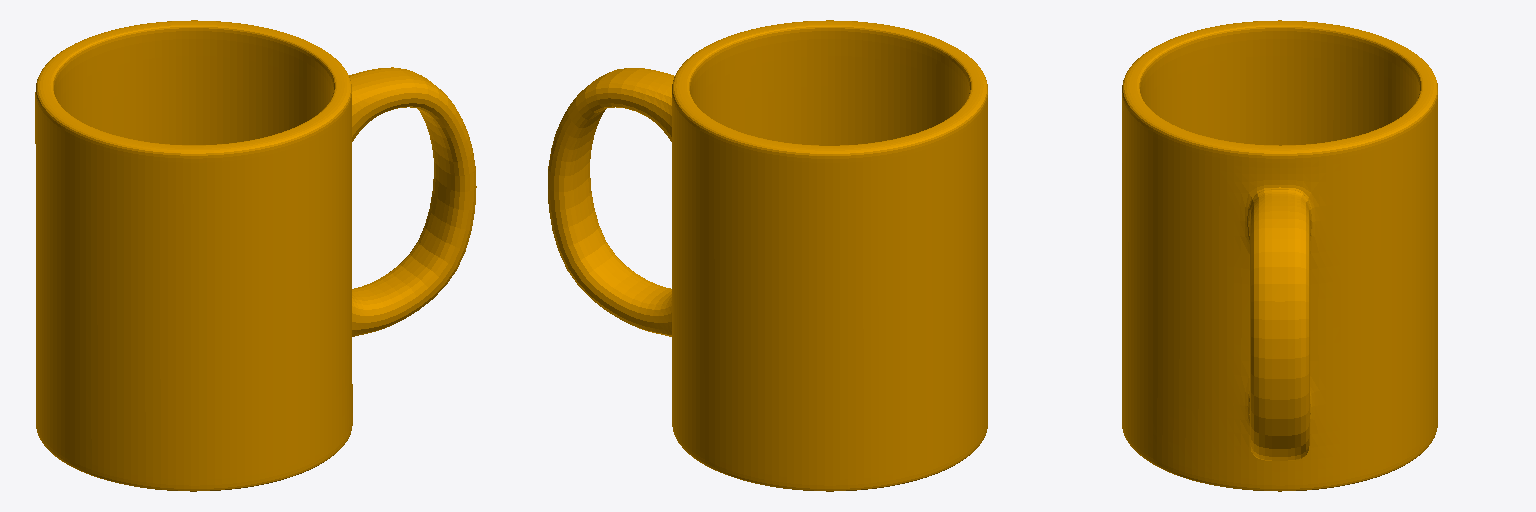
robot.urdf — apple:
<?xml version="0.0" ?>
<robot name="apple">
  <link name="baseLink">
    <contact>
      <lateral_friction value="1.0"/>
      <rolling_friction value="0.0"/>
      <contact_cfm value="0.0"/>
      <contact_erp value="1.0"/>
    </contact>
    <inertial>
      <origin rpy="1.57 0 0" xyz="0.0 0.0 0.0"/>
       <mass value=".1"/>
       <inertia ixx="1" ixy="0" ixz="0" iyy="1" iyz="0" izz="1"/>
    </inertial>
    <visual>
      <origin rpy="1.57 0 0" xyz="0 0 0"/>
      <geometry>
        <mesh filename="meshes/notextures/mug.obj" />
      </geometry>

    </visual>
    <collision>
      <origin rpy="1.57 0 0" xyz="0 0 0"/>
      <geometry>
	 	<mesh filename="meshes/notextures/mug.obj"/>
      </geometry>
    </collision>
  </link>
</robot>

--- Render facts (derived) ---
The picture shows the robot from 3 angles, left to right: view 1: azimuth 30°, elevation 25°; view 2: azimuth 150°, elevation 25°; view 3: azimuth 270°, elevation 25°; orthographic projection.
Model apple with 1 links and 0 joints (none), rooted at baseLink, posed every joint at zero.
Visible links, largest first — view 1: baseLink; view 2: baseLink; view 3: baseLink.
Boxes of the visible links, left/top/right/bottom form: baseLink: left=35, top=20, right=476, bottom=491; baseLink: left=548, top=20, right=987, bottom=491; baseLink: left=1122, top=20, right=1437, bottom=491.
Size in the robot's own frame: 0.1895 by 0.1266 by 0.1503 metres.
Meshes: 1 distinct files referenced, 1 mesh visuals loaded (1 OBJ).